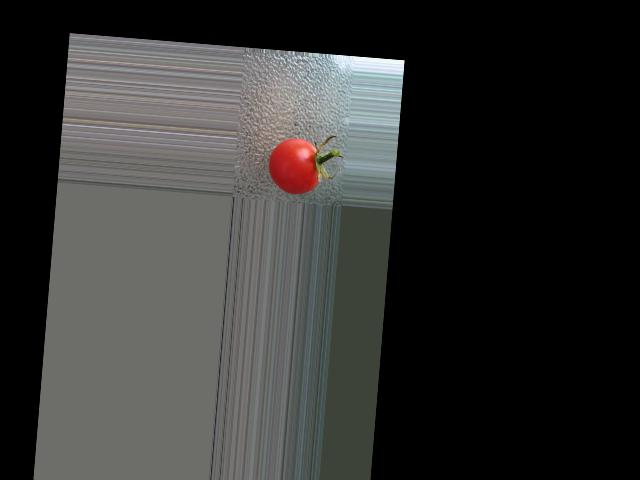tomato: (266, 135, 321, 195)
